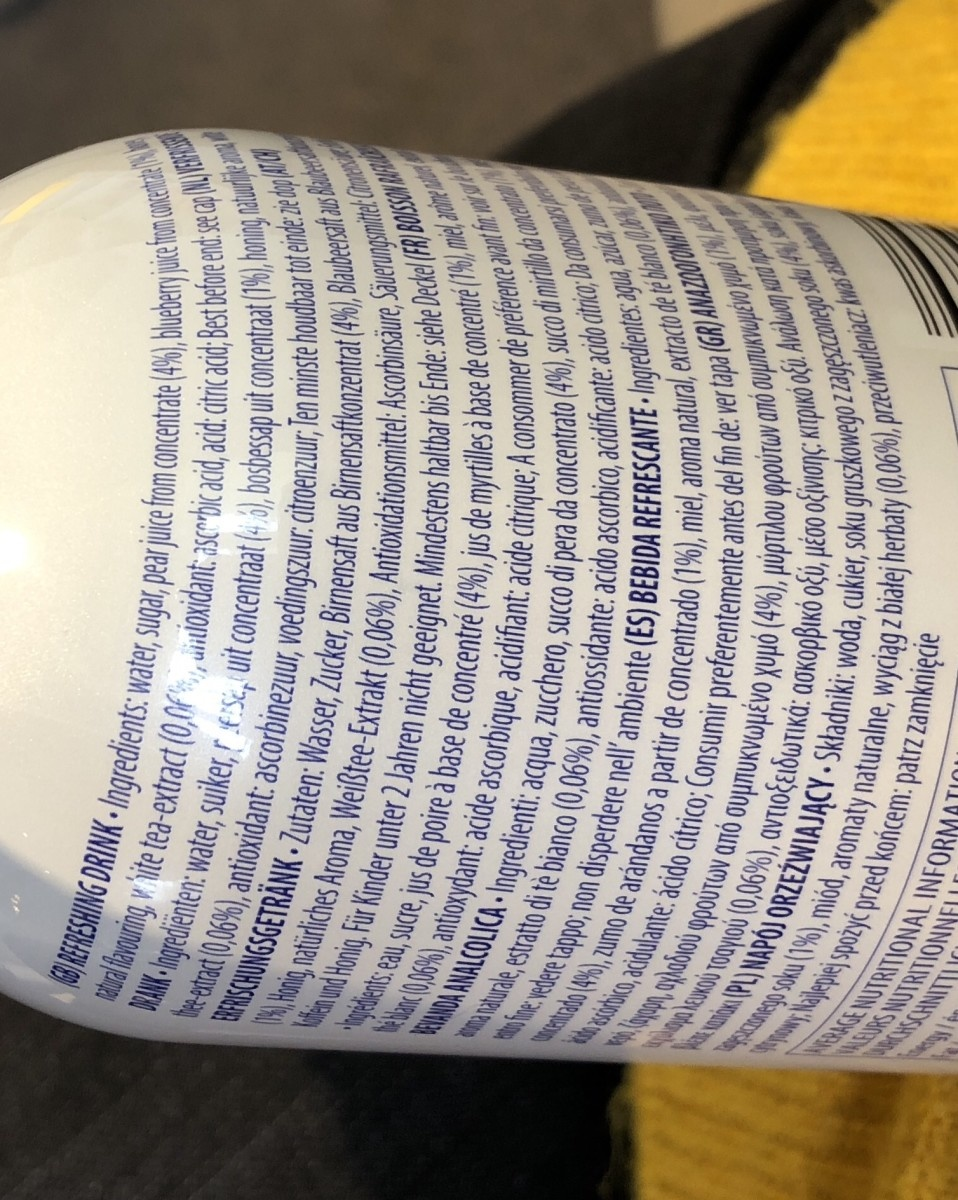ingredients: (20, 143, 940, 1069)
